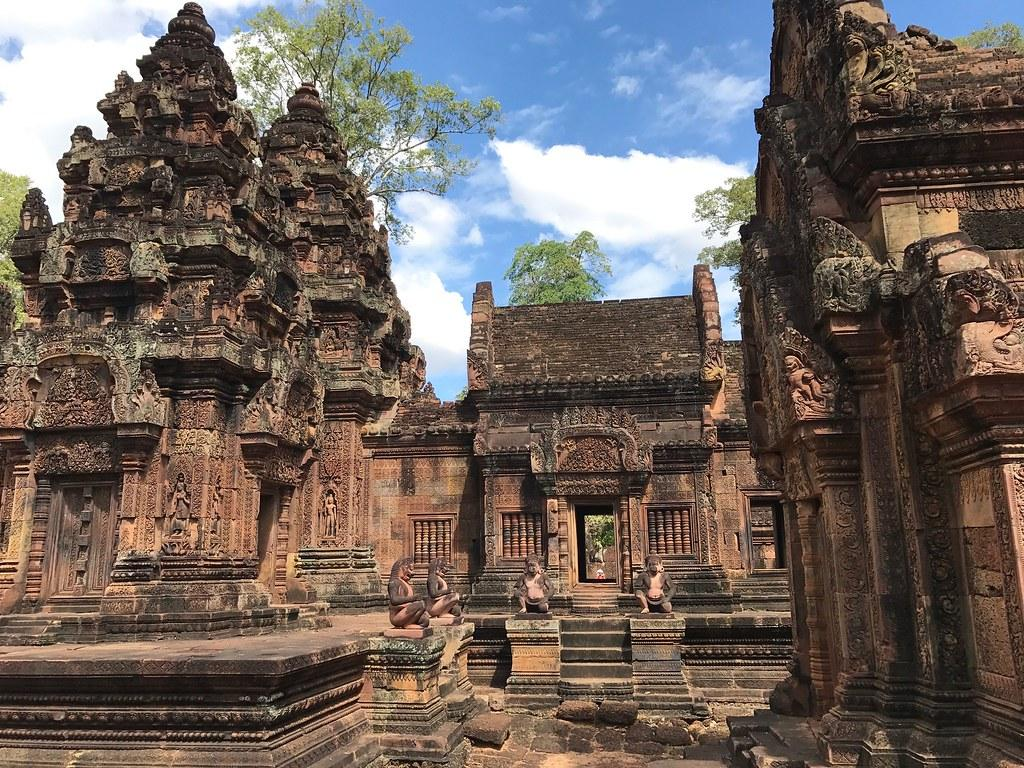temple: (3, 2, 1022, 767), (2, 1, 431, 646), (734, 1, 1023, 767)
